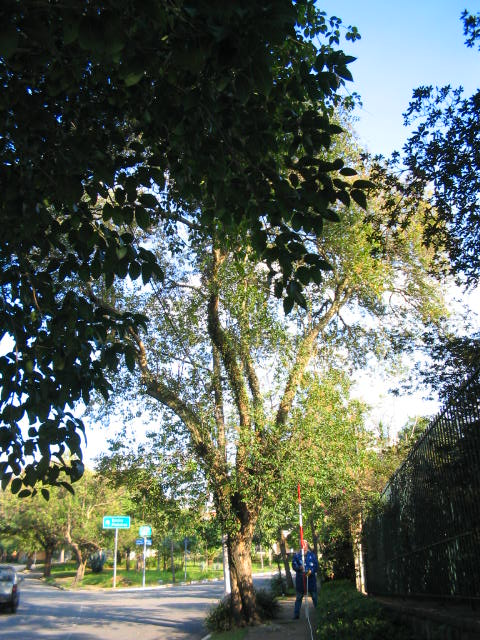stem: (212, 522, 275, 627)
stick: (291, 484, 314, 619)
tree: (85, 111, 448, 630)
